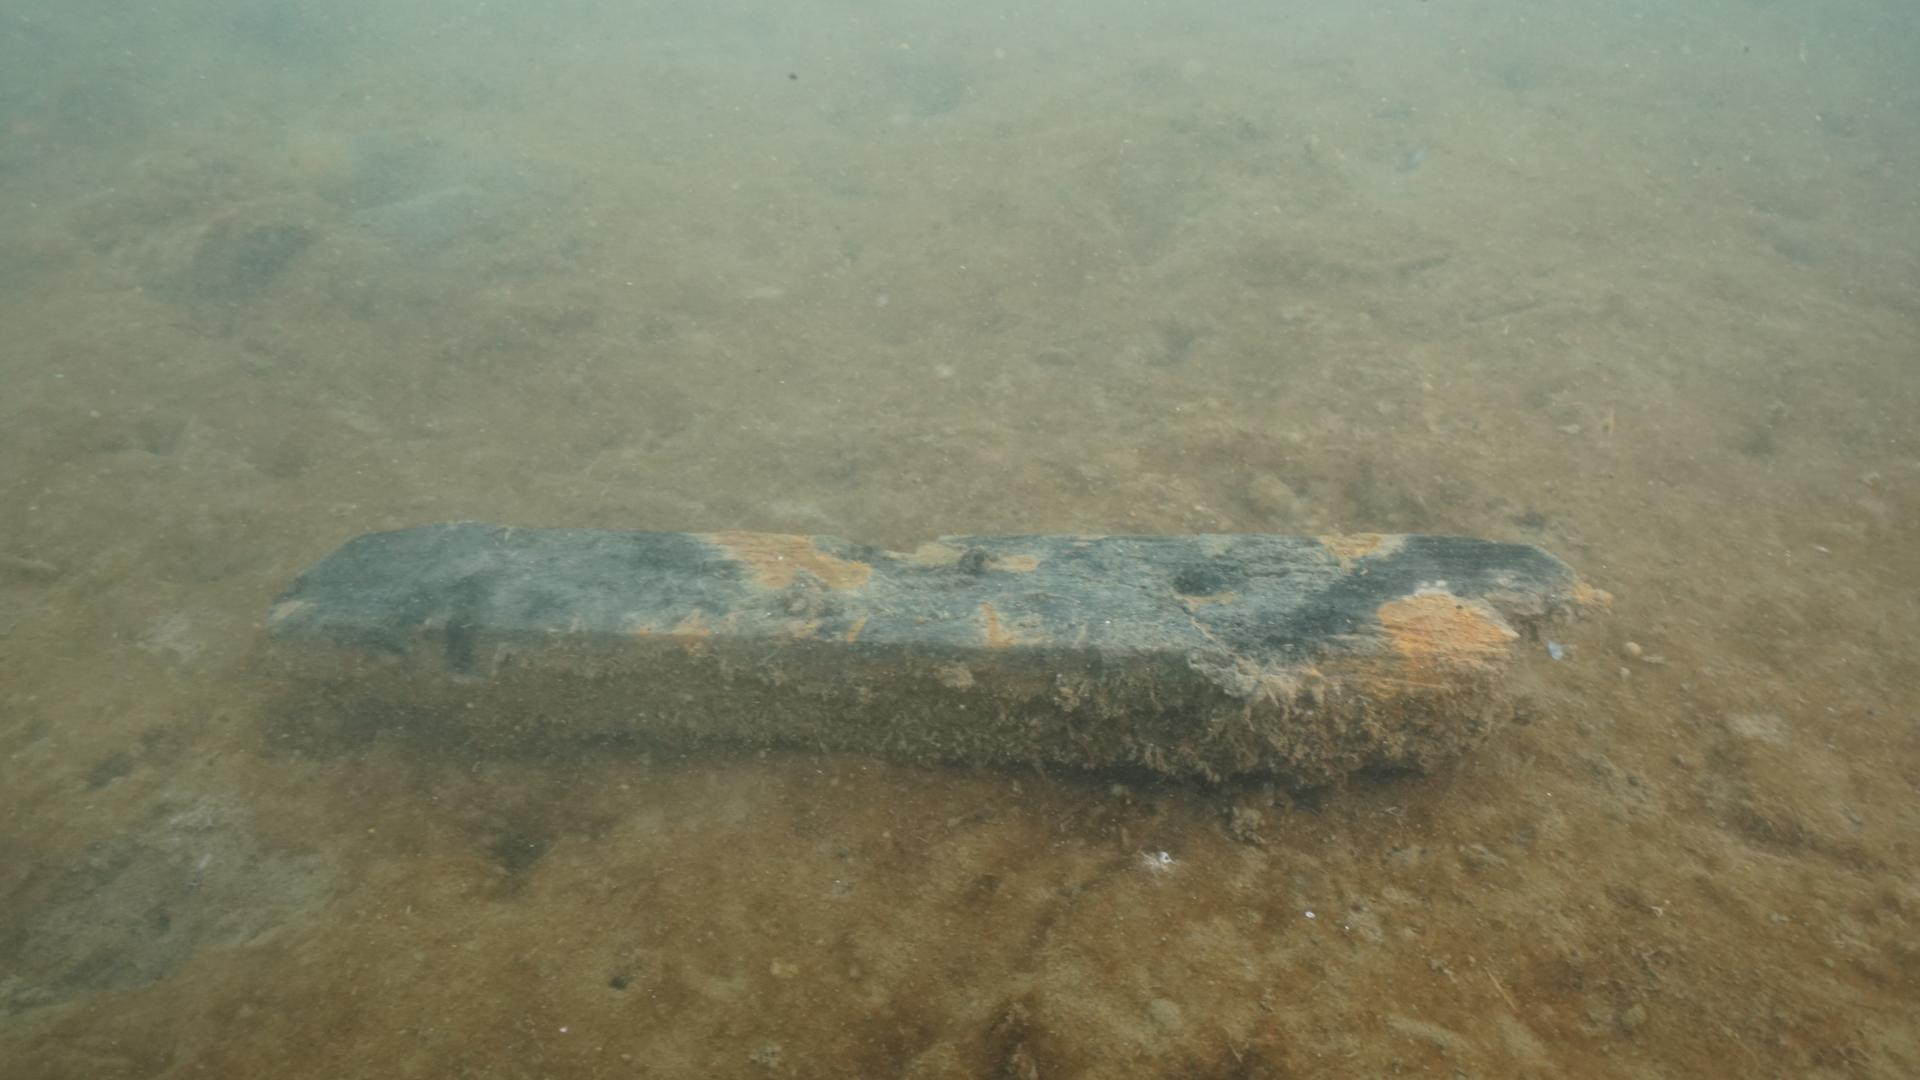wood: (248, 512, 1592, 819)
